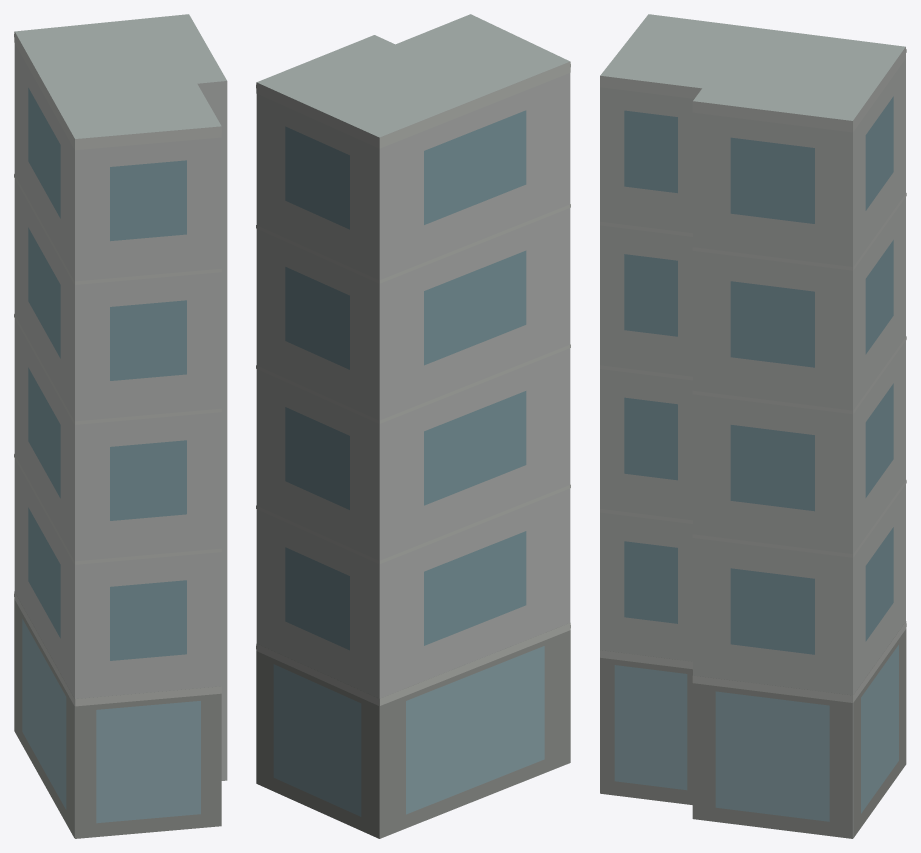
Rendered from survey-upis-32818615.glb.
3 renders of one model, left to right at view 1: azimuth 30°, elevation 25°; view 2: azimuth 150°, elevation 25°; view 3: azimuth 270°, elevation 25°, orthographic. The views are drawn at different scales.
Parts seen in each view (by area): view 1: survey-upis-32818615.tmp; view 2: survey-upis-32818615.tmp; view 3: survey-upis-32818615.tmp.
Boxes of the visible parts, x1,y1,x2,y2 form: survey-upis-32818615.tmp: (14, 14, 227, 838); survey-upis-32818615.tmp: (256, 14, 570, 838); survey-upis-32818615.tmp: (600, 14, 906, 838).
Bounding box in the file's own units: 4.9 × 15.25 × 5.91.
